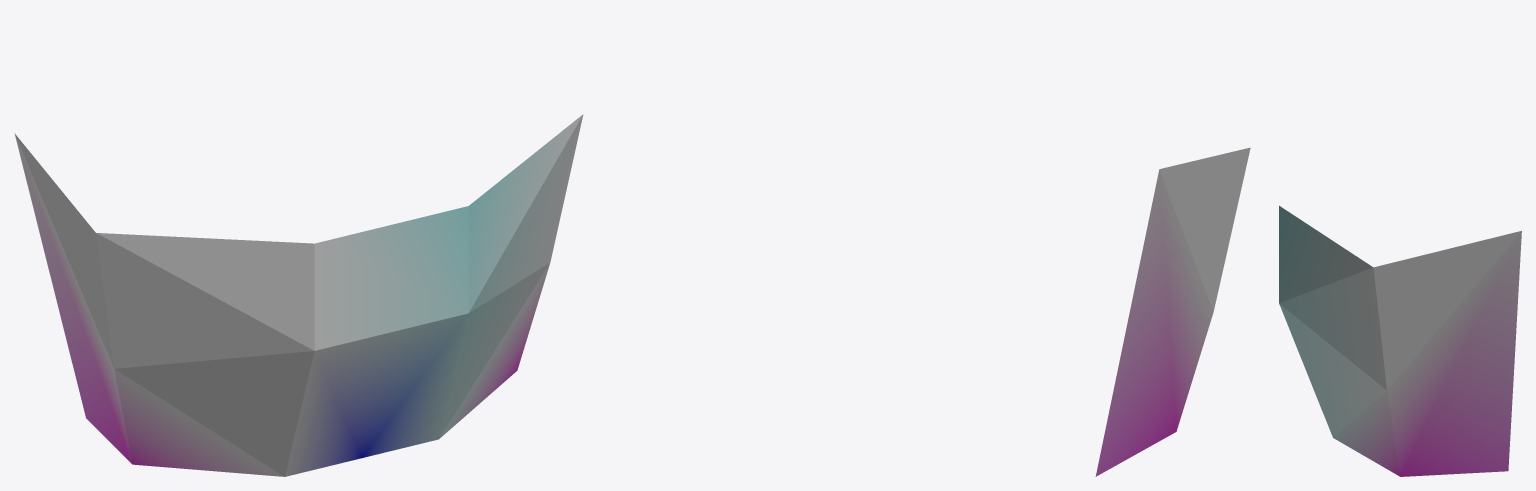
3 views of the same model, side by side, from view 1: azimuth 30°, elevation 25°; view 2: azimuth 150°, elevation 25°; view 3: azimuth 270°, elevation 25° (orthographic). The views are drawn at different scales.
Parts seen in each view (by area): view 1: model_110A; view 2: model_110A; view 3: model_110A.
Part boxes in pixels (<box>): model_110A: <box>14,114,583,476</box>; model_110A: <box>1095,147,1250,476</box>; model_110A: <box>1279,205,1521,476</box>.
Bounding box in the file's own units: 38 × 23 × 18.
